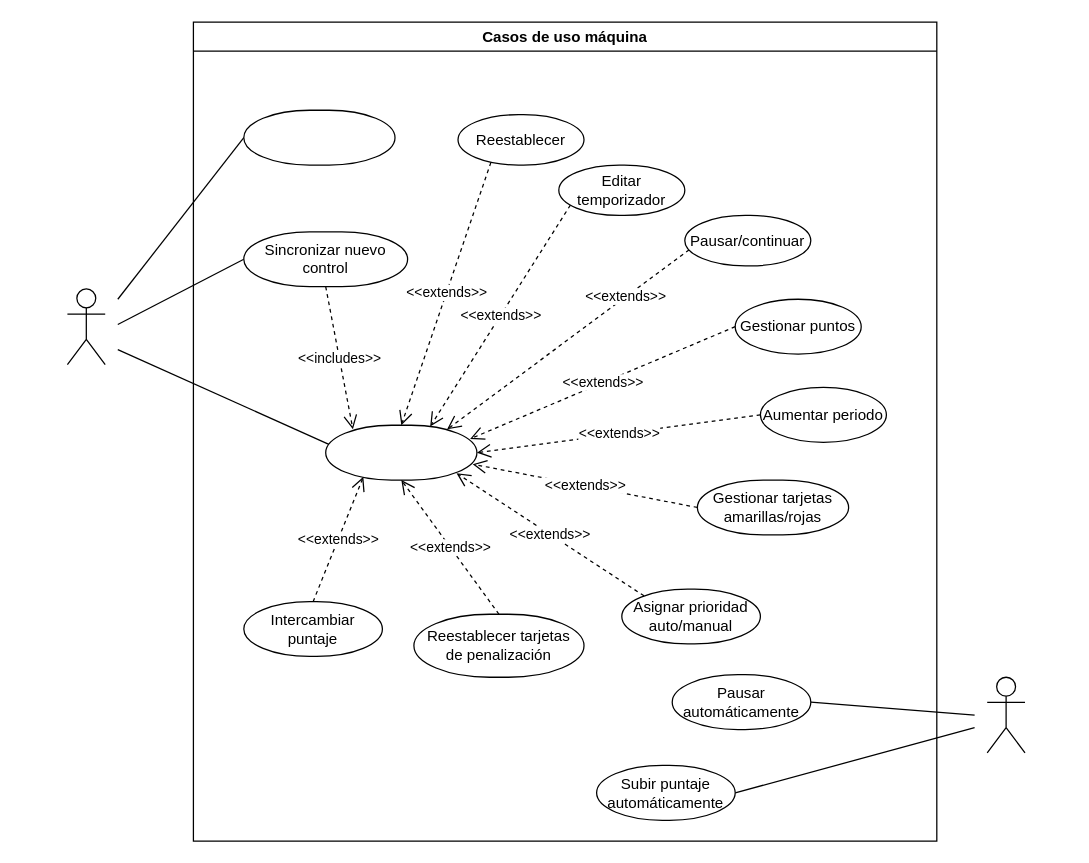
The diagram is 1089 pixels wide and 863 high, and some of its shapes have lost their labels. Each missing label, with the centre of its shape:
"<<hardware>> máquina existente" belongs at point 1005,714.
"<<usuario>> entrenador / arbitro" belongs at point 85,326.
"Cambiar puntos auto/manual" belongs at point 319,137.
"Enviar comando remoto" belongs at point 400,452.
